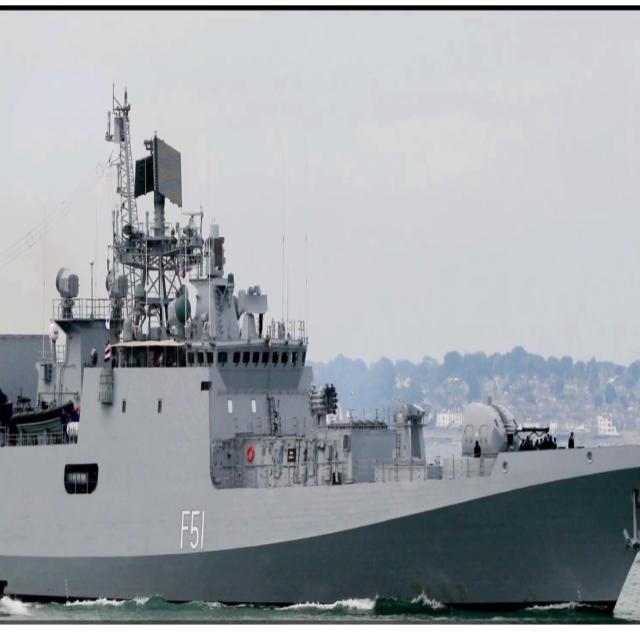OCR: (177, 506, 211, 558)
